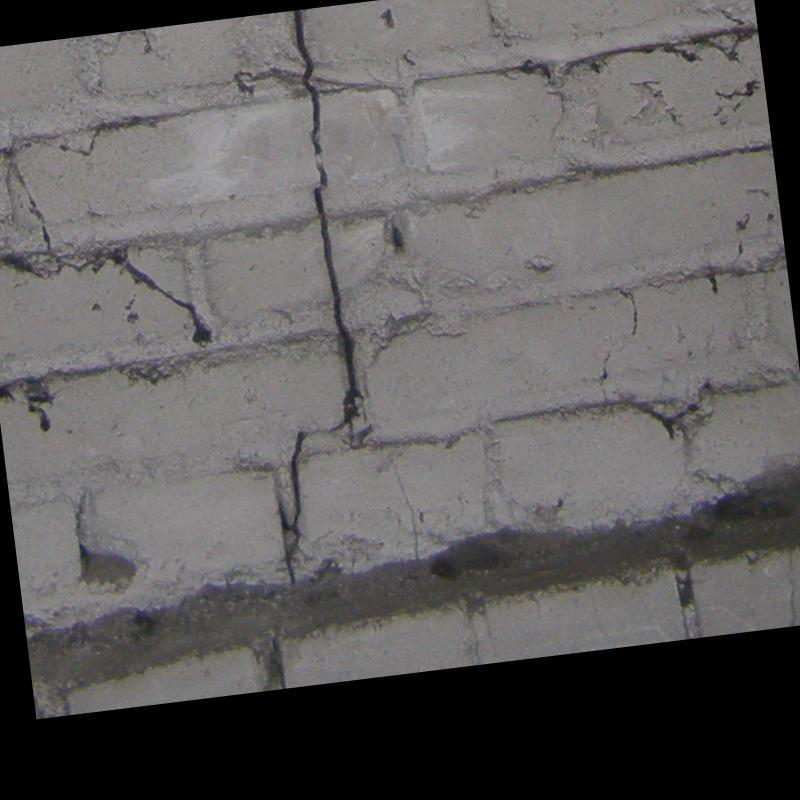pothole: (313, 163, 361, 433), (292, 10, 324, 157), (277, 430, 307, 541)
